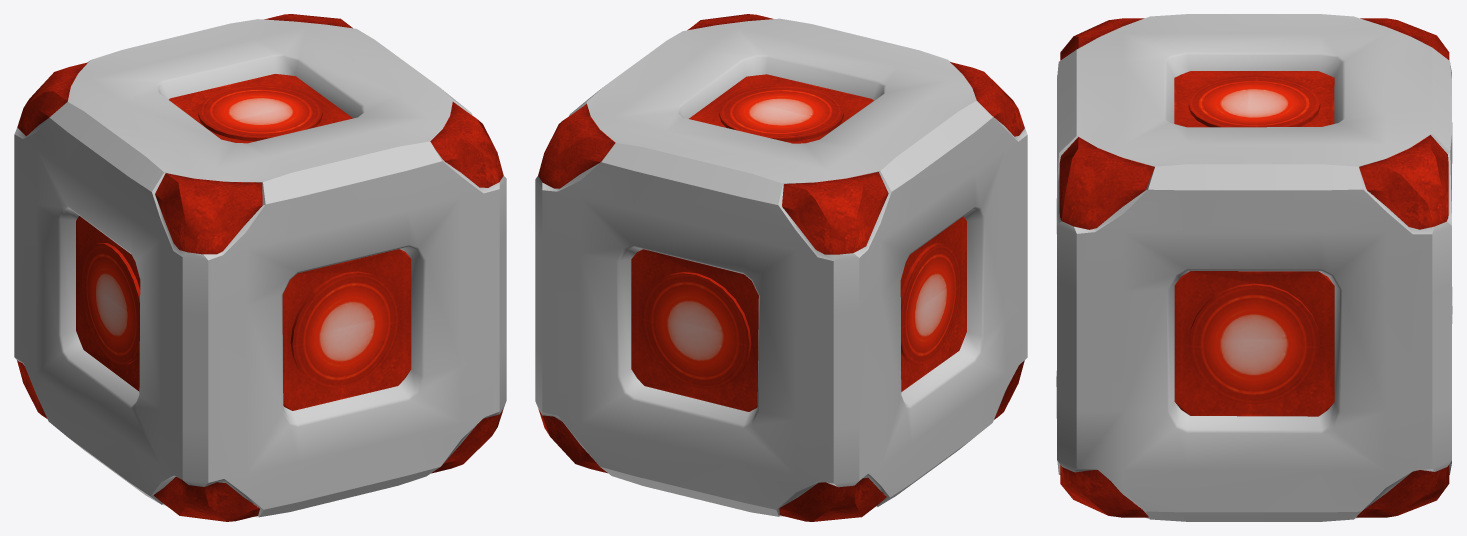
The model's file is Collectable Cube.fbx.
3 views of the same model, side by side, from view 1: azimuth 30°, elevation 25°; view 2: azimuth 150°, elevation 25°; view 3: azimuth 270°, elevation 25° (orthographic). The views are drawn at different scales.
Visible parts, largest first — view 1: Collectable_Cube; view 2: Collectable_Cube; view 3: Collectable_Cube.
Part boxes in pixels (left/top/right/bottom): Collectable_Cube: left=14, top=14, right=506, bottom=521; Collectable_Cube: left=535, top=14, right=1027, bottom=521; Collectable_Cube: left=1056, top=14, right=1452, bottom=521.
Bounding box in the file's own units: 100 × 100 × 100.
